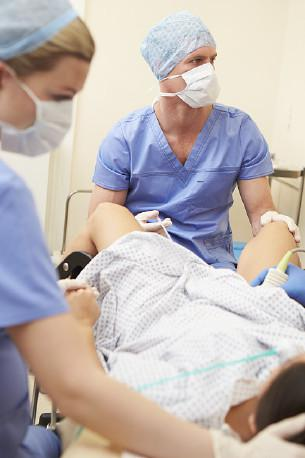OK: (1, 71, 87, 160), (171, 50, 228, 107)
